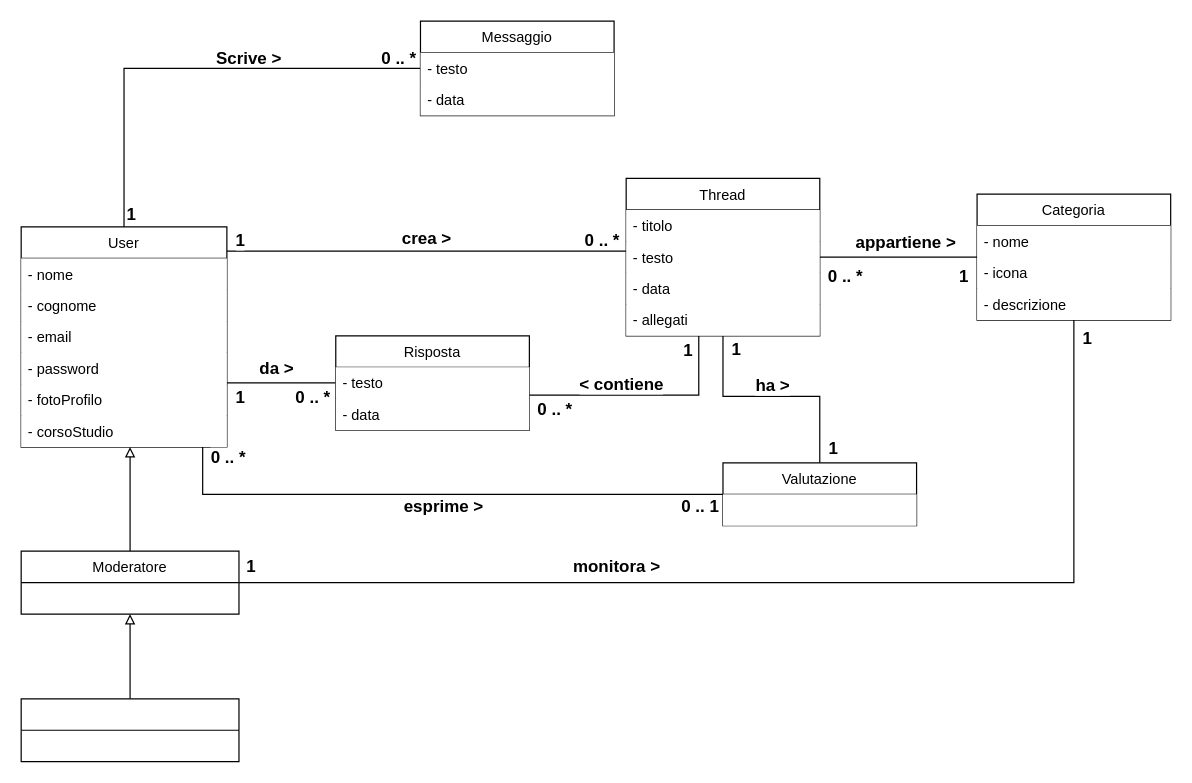
Some shapes in this 1192 by 783 pixel diagram are drawn without their labels. The centre of each missing label's shape, as x and y in pixels:
"- valore" belongs at [819,509].
"Admin" belongs at [129,730].
